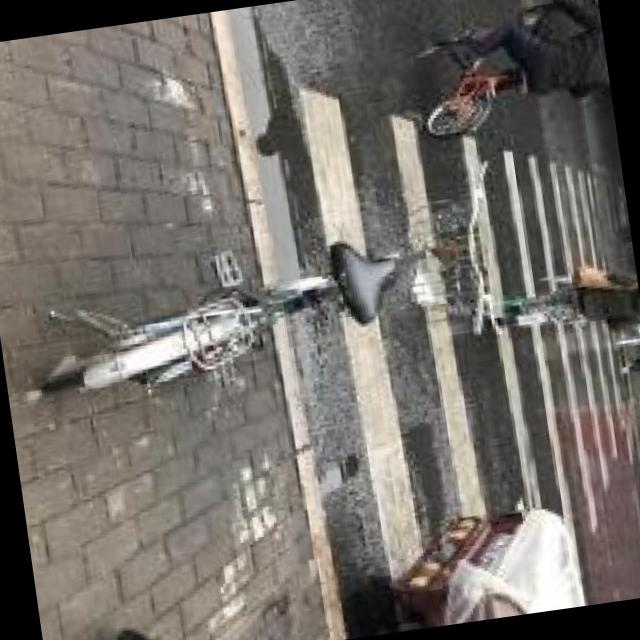zebra: (292, 42, 640, 629)
